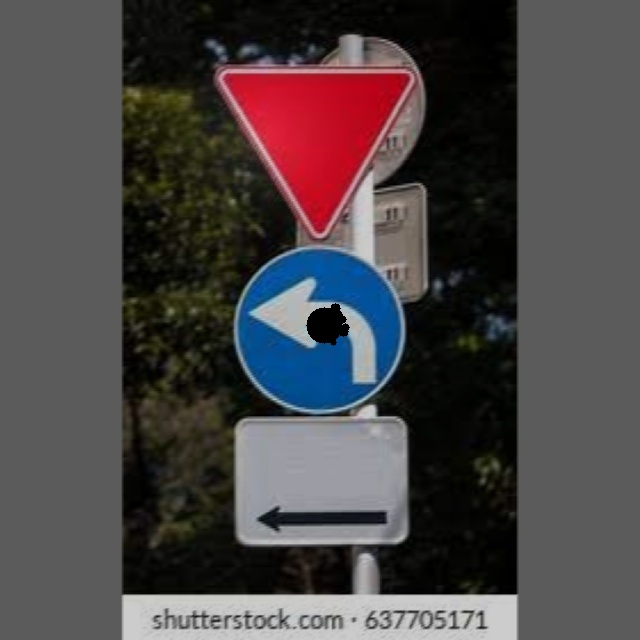Compulsory_Turn_Left_Ahead: (235, 250, 407, 412)
